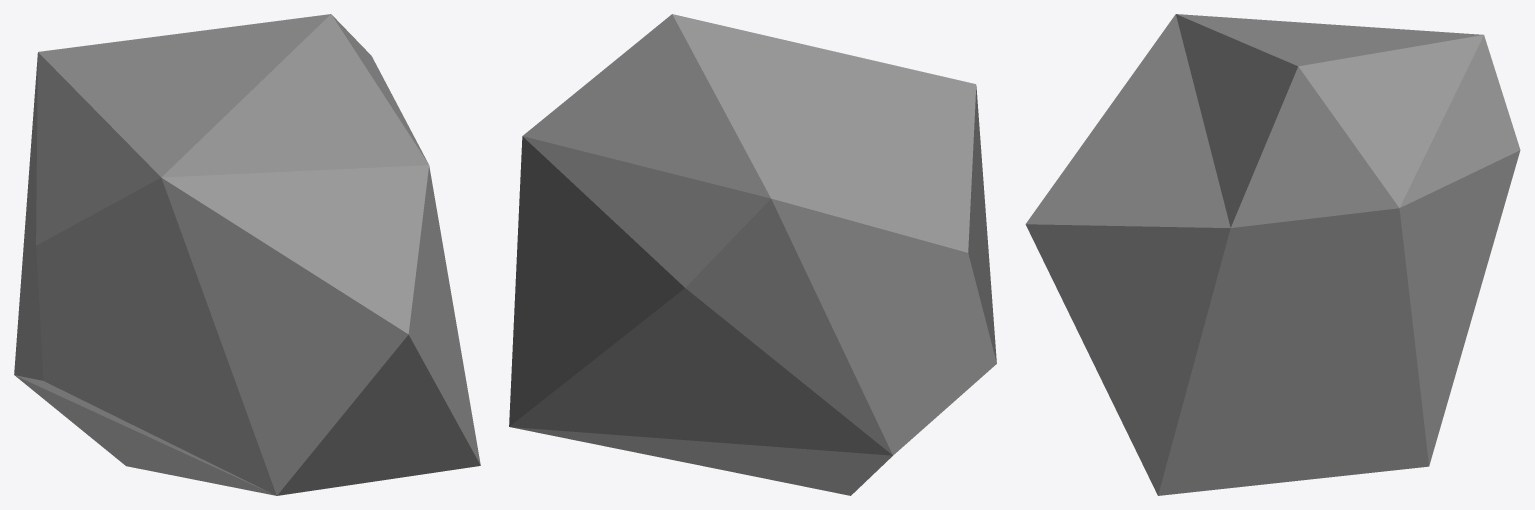
File: Rock_05.fbx
The picture shows the model from 3 angles, left to right: view 1: azimuth 30°, elevation 25°; view 2: azimuth 150°, elevation 25°; view 3: azimuth 270°, elevation 25°; orthographic projection. The views are drawn at different scales.
Visible parts, largest first — view 1: Rock_05; view 2: Rock_05; view 3: Rock_05.
Boxes of the visible parts, x1,y1,x2,y2 form: Rock_05: [14, 14, 480, 495]; Rock_05: [509, 14, 996, 495]; Rock_05: [1025, 14, 1520, 495].
Bounding box in the file's own units: 72.56 × 72.69 × 82.59.
